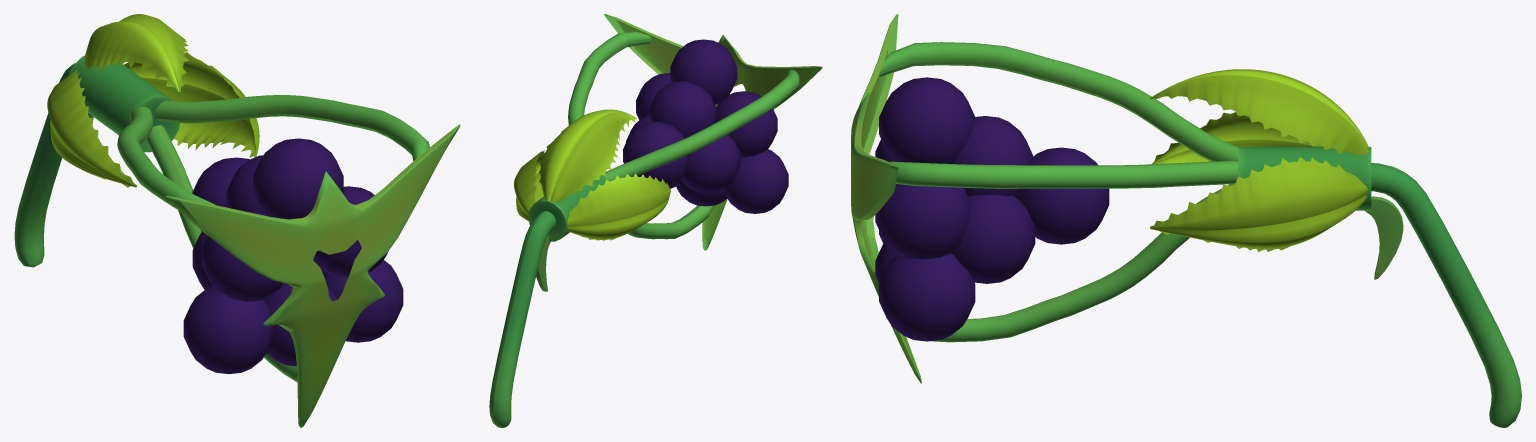
The model's file is grape_shooter_no_texture.fbx.
The picture shows the model from 3 angles, left to right: view 1: azimuth 30°, elevation 25°; view 2: azimuth 150°, elevation 25°; view 3: azimuth 270°, elevation 25°; orthographic projection. The views are drawn at different scales.
Visible parts, largest first — view 1: Cylinder, Sphere.013, Sphere.006, Sphere.007, Sphere.017, Sphere.003, Sphere.015, Sphere.012, Sphere.002, Sphere.001; view 2: Cylinder, Sphere.013, Sphere.006, Sphere.002, Sphere.001, Sphere.003, Sphere.017, Sphere.015, Sphere.012; view 3: Cylinder, Sphere.007, Sphere.006, Sphere.015, Sphere.001, Sphere.003, Sphere.002.
Boxes of the visible parts, bbox=[...] form: Cylinder: bbox=[14, 14, 460, 427]; Sphere.013: bbox=[183, 286, 273, 373]; Sphere.006: bbox=[253, 138, 343, 219]; Sphere.007: bbox=[323, 260, 403, 342]; Sphere.017: bbox=[202, 211, 282, 301]; Sphere.003: bbox=[192, 157, 249, 231]; Sphere.015: bbox=[313, 186, 388, 277]; Sphere.012: bbox=[263, 283, 337, 366]; Sphere.002: bbox=[226, 155, 263, 213]; Sphere.001: bbox=[192, 231, 324, 289]; Cylinder: bbox=[489, 14, 822, 427]; Sphere.013: bbox=[723, 149, 788, 213]; Sphere.006: bbox=[670, 39, 737, 104]; Sphere.002: bbox=[649, 81, 716, 138]; Sphere.001: bbox=[626, 115, 740, 192]; Sphere.003: bbox=[623, 121, 689, 186]; Sphere.017: bbox=[715, 91, 777, 157]; Sphere.015: bbox=[636, 73, 671, 119]; Sphere.012: bbox=[675, 179, 727, 206]; Cylinder: bbox=[851, 14, 1521, 427]; Sphere.007: bbox=[879, 253, 975, 341]; Sphere.006: bbox=[879, 77, 975, 163]; Sphere.015: bbox=[875, 184, 971, 259]; Sphere.001: bbox=[951, 194, 1035, 283]; Sphere.003: bbox=[1018, 147, 1109, 244]; Sphere.002: bbox=[952, 116, 1033, 198].
Bounding box in the file's own units: 78.54 × 83.82 × 145.
Materials: 4 (3 with a texture image).
